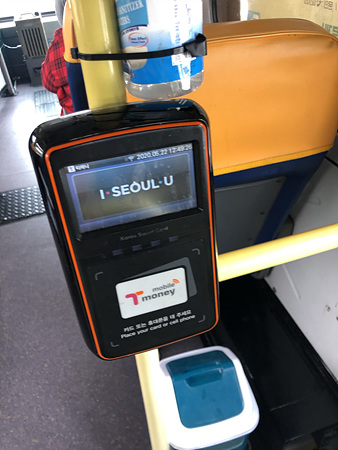terminal: (36, 107, 219, 351)
